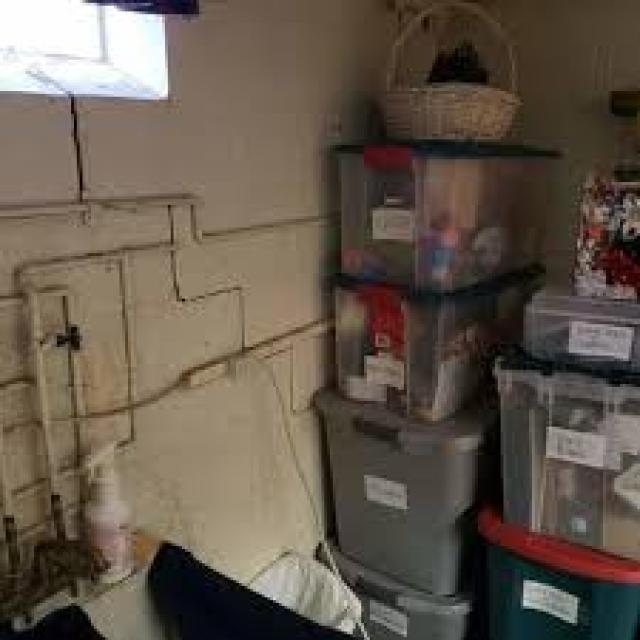Crack: (62, 91, 248, 350)
